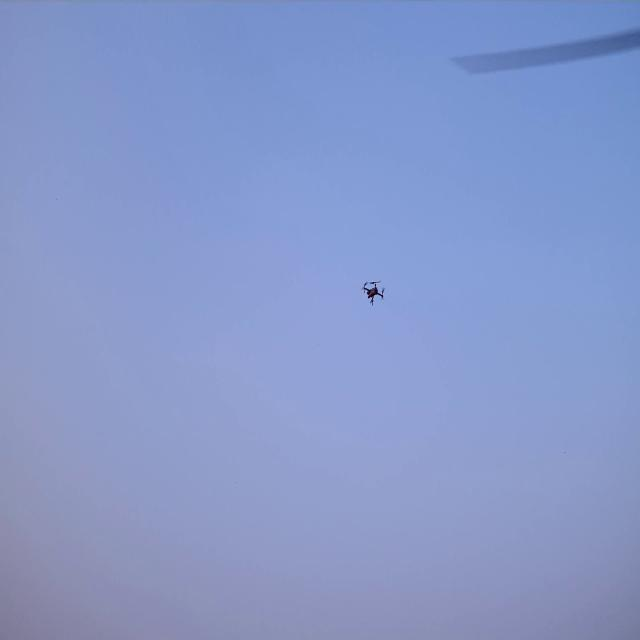UAV: (363, 282, 383, 305)
